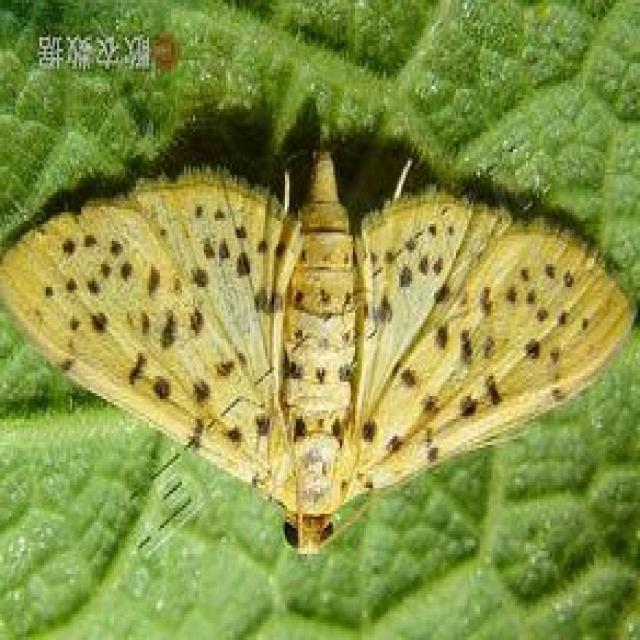peach borer: (4, 140, 635, 562)
